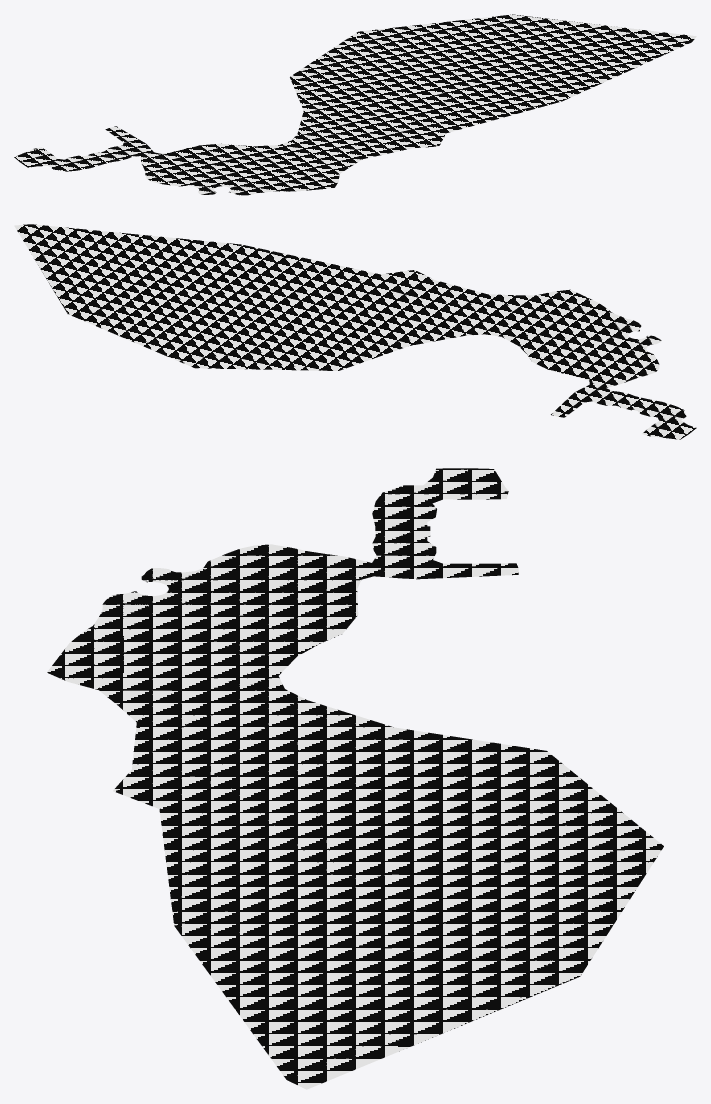
Rendered from PeachCastleGardenPlanetIndirect.dae.
3 views of the same model, one above another, from view 1: azimuth 30°, elevation 25°; view 2: azimuth 150°, elevation 25°; view 3: azimuth 270°, elevation 25° (orthographic). The views are drawn at different scales.
Visible parts, largest first — view 1: m0; view 2: m0; view 3: m0.
Boxes of the visible parts, x1,y1,x2,y2 form: m0: (14, 14, 696, 195); m0: (14, 224, 696, 439); m0: (47, 468, 663, 1089).
Bounding box in the file's own units: 64854 × 3.13 × 27226.
1 material, 1 textured.
